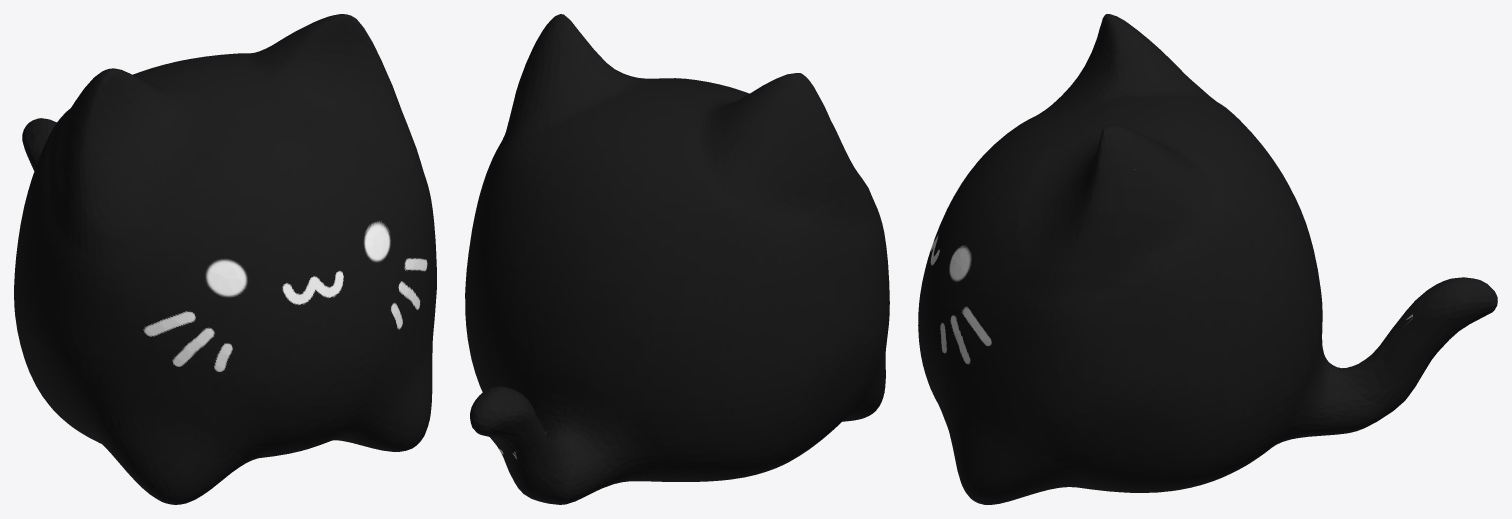
Rendered from kiki try.fbx.
3 views of the same model, side by side, from view 1: azimuth 30°, elevation 25°; view 2: azimuth 150°, elevation 25°; view 3: azimuth 270°, elevation 25° (orthographic). The views are drawn at different scales.
Parts seen in each view (by area): view 1: Sphere; view 2: Sphere; view 3: Sphere.
Part boxes in pixels (x1,y1,x2,y2): Sphere: (14,14,436,504); Sphere: (465,14,889,504); Sphere: (918,14,1497,504).
Size of the model in its own units: 110 by 110 by 153.
Materials: 1 (1 with a texture image).
